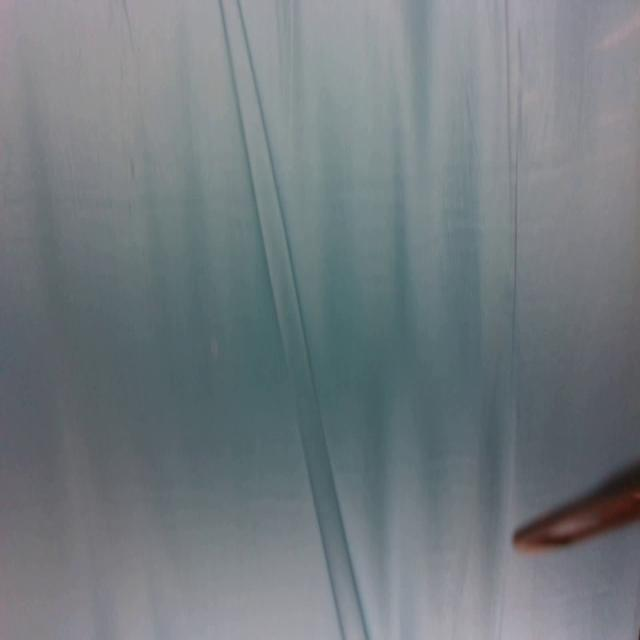crease: (216, 0, 369, 640), (508, 27, 526, 380)
